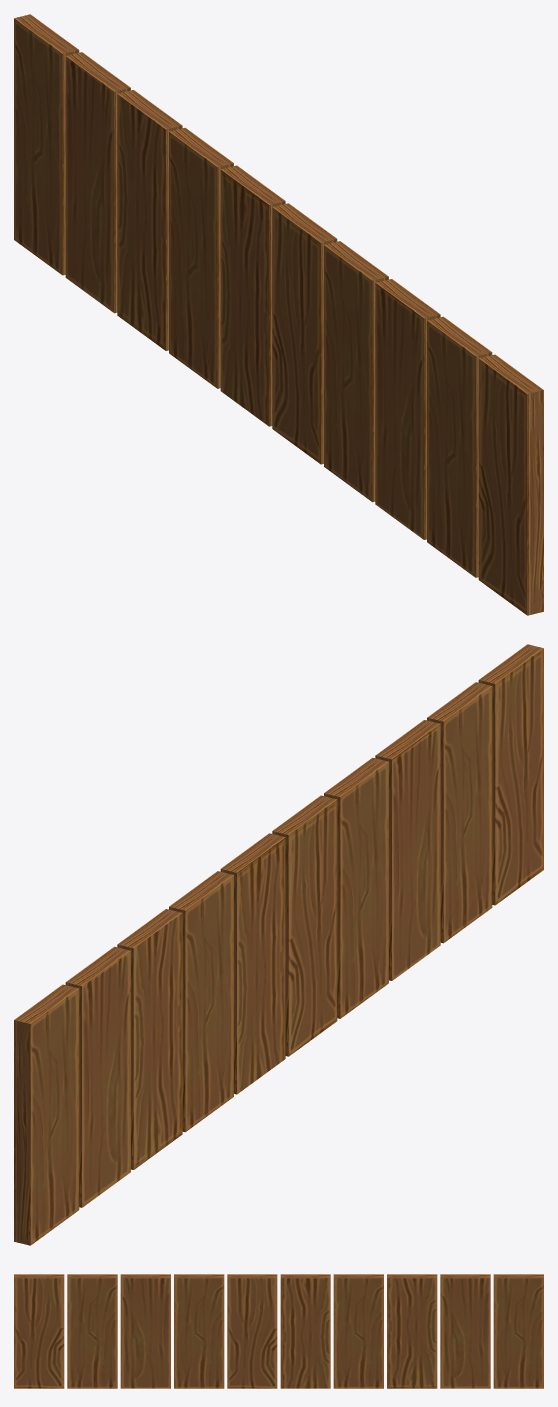
The picture shows the model from 3 angles, top to bottom: view 1: azimuth 30°, elevation 25°; view 2: azimuth 150°, elevation 25°; view 3: azimuth 270°, elevation 25°; orthographic projection. The views are drawn at different scales.
Visible parts, largest first — view 1: Cube.557; view 2: Cube.557; view 3: Cube.557.
Part boxes in pixels (x1,y1,x2,y2): Cube.557: (14, 14, 543, 615); Cube.557: (14, 644, 543, 1245); Cube.557: (14, 1274, 543, 1388).
Bounding box in the file's own units: 11 × 141 × 592.
Materials: 1 (1 with a texture image).
